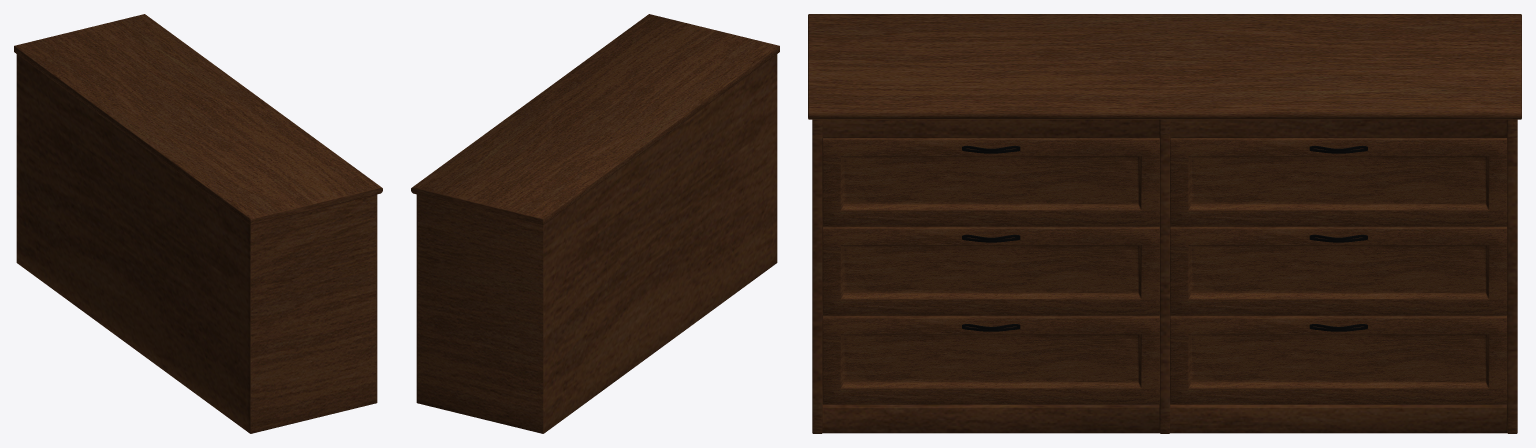
The picture shows the model from 3 angles, left to right: view 1: azimuth 30°, elevation 25°; view 2: azimuth 150°, elevation 25°; view 3: azimuth 270°, elevation 25°; orthographic projection. The views are drawn at different scales.
Parts seen in each view (by area): view 1: SONGESAND_dresser, SONGESAND_dresser_counter; view 2: SONGESAND_dresser, SONGESAND_dresser_counter; view 3: SONGESAND_dresser_counter, SONGESAND_dresser, SONGESAND_dresser_bottom_left_drawer, SONGESAND_dresser_bottom_right_drawer, SONGESAND_dresser_middle_left_drawer, SONGESAND_dresser_middle_right_drawer, SONGESAND_dresser_top_left_drawer, SONGESAND_dresser_top_right_drawer.
Part boxes in pixels (<box>): SONGESAND_dresser: <box>16,54,377,433</box>; SONGESAND_dresser_counter: <box>14,14,382,224</box>; SONGESAND_dresser: <box>416,54,777,433</box>; SONGESAND_dresser_counter: <box>411,14,779,224</box>; SONGESAND_dresser_counter: <box>808,14,1521,119</box>; SONGESAND_dresser: <box>812,119,1517,433</box>; SONGESAND_dresser_bottom_left_drawer: <box>822,315,1159,404</box>; SONGESAND_dresser_bottom_right_drawer: <box>1170,315,1507,404</box>; SONGESAND_dresser_middle_left_drawer: <box>822,226,1159,315</box>; SONGESAND_dresser_middle_right_drawer: <box>1170,226,1507,315</box>; SONGESAND_dresser_top_left_drawer: <box>822,138,1159,226</box>; SONGESAND_dresser_top_right_drawer: <box>1170,138,1507,226</box>.
Bounding box in the file's own units: 52.72 × 82.25 × 163.
2 materials, 1 textured.
